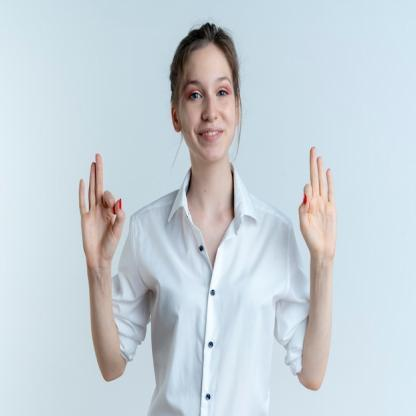ok: (74, 147, 130, 280), (295, 141, 340, 263)
